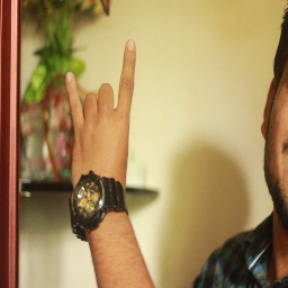V: (63, 37, 145, 208)
